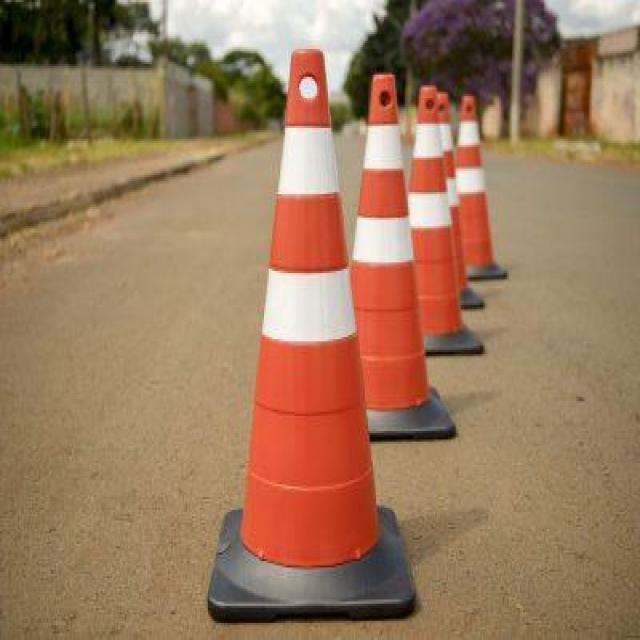traffic cone: (207, 49, 417, 623), (348, 73, 459, 441), (405, 89, 484, 356), (453, 93, 509, 281), (439, 94, 485, 311)
